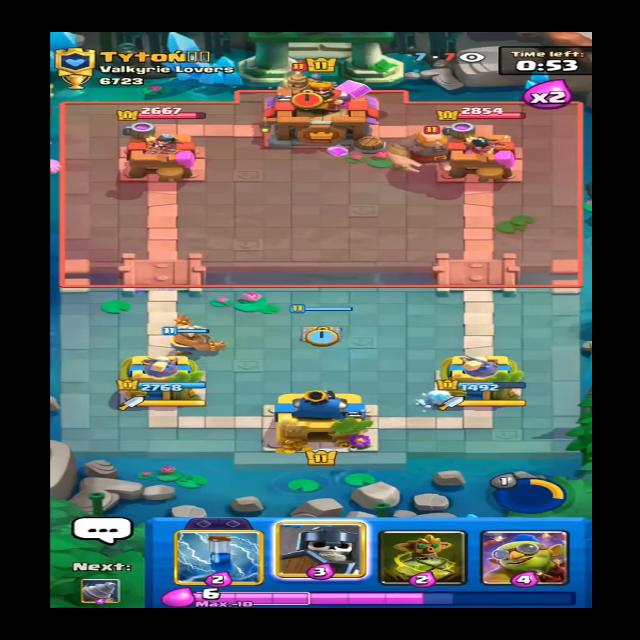giant: (380, 124, 482, 170)
prince: (276, 66, 322, 102)
